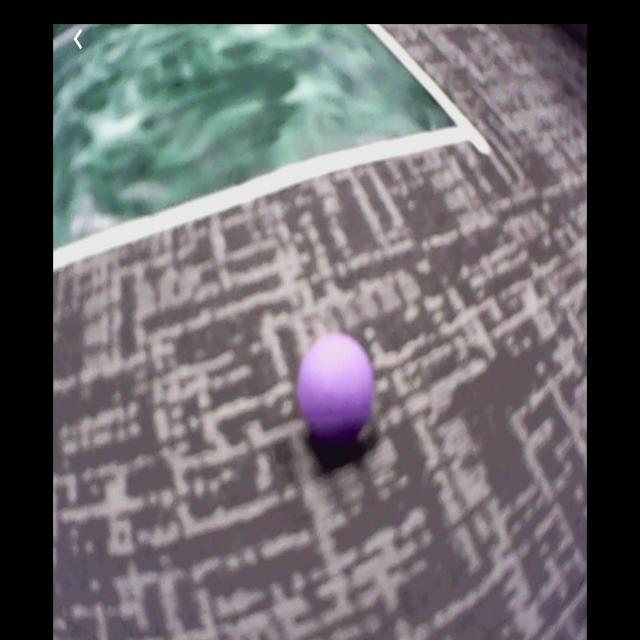ball: (300, 335, 374, 439)
